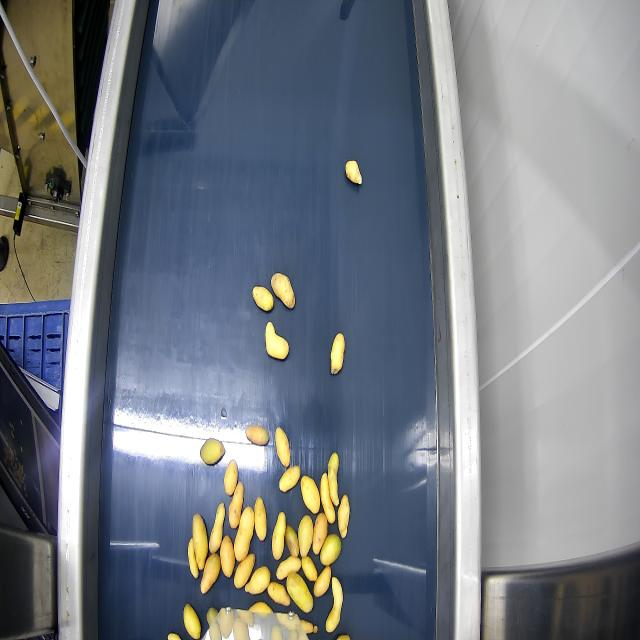Baby Potato: (234, 507, 254, 561), (287, 573, 312, 613), (326, 576, 342, 632), (265, 322, 288, 359), (192, 514, 207, 570), (271, 273, 294, 309), (209, 503, 225, 552), (201, 553, 220, 594), (320, 473, 335, 523), (234, 554, 255, 589), (301, 476, 320, 513), (245, 567, 270, 594), (320, 534, 341, 566), (229, 482, 243, 528), (298, 515, 313, 557), (272, 512, 285, 560), (220, 536, 235, 577), (200, 439, 224, 464), (275, 427, 290, 467), (183, 604, 200, 639), (313, 512, 327, 554), (279, 465, 300, 492), (331, 333, 344, 375), (328, 453, 338, 506), (268, 583, 290, 607), (276, 557, 300, 579), (254, 497, 266, 541), (314, 567, 331, 597), (252, 287, 273, 311), (224, 460, 238, 495), (338, 495, 349, 538), (246, 425, 268, 446), (285, 525, 299, 557), (301, 556, 317, 582), (188, 538, 198, 578), (345, 160, 361, 184), (249, 601, 272, 615), (300, 620, 317, 633), (206, 607, 217, 626), (168, 633, 180, 639), (337, 634, 350, 639)
